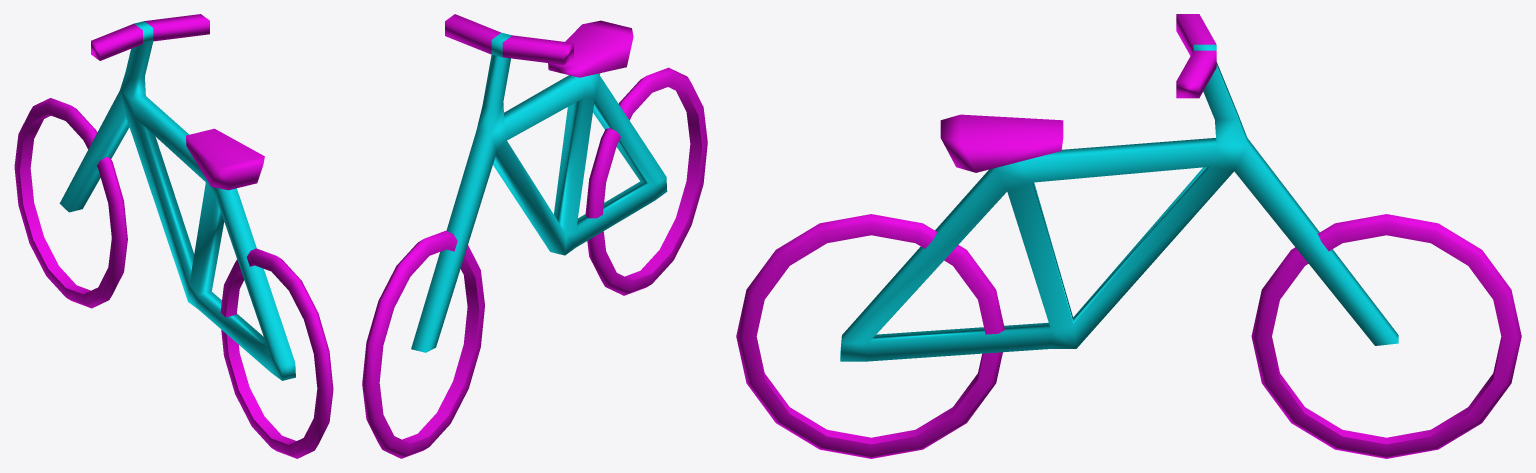
Rendered from Bici.fbx.
3 views of the same model, side by side, from view 1: azimuth 30°, elevation 25°; view 2: azimuth 150°, elevation 25°; view 3: azimuth 270°, elevation 25° (orthographic). The views are drawn at different scales.
Parts seen in each view (by area): view 1: bici; view 2: bici; view 3: bici.
Boxes of the visible parts, box(x1,y1,x2,y2) form: bici: box(14, 14, 333, 458); bici: box(362, 14, 707, 458); bici: box(736, 14, 1521, 458).
Bounding box in the file's own units: 21.76 × 62.01 × 107.
